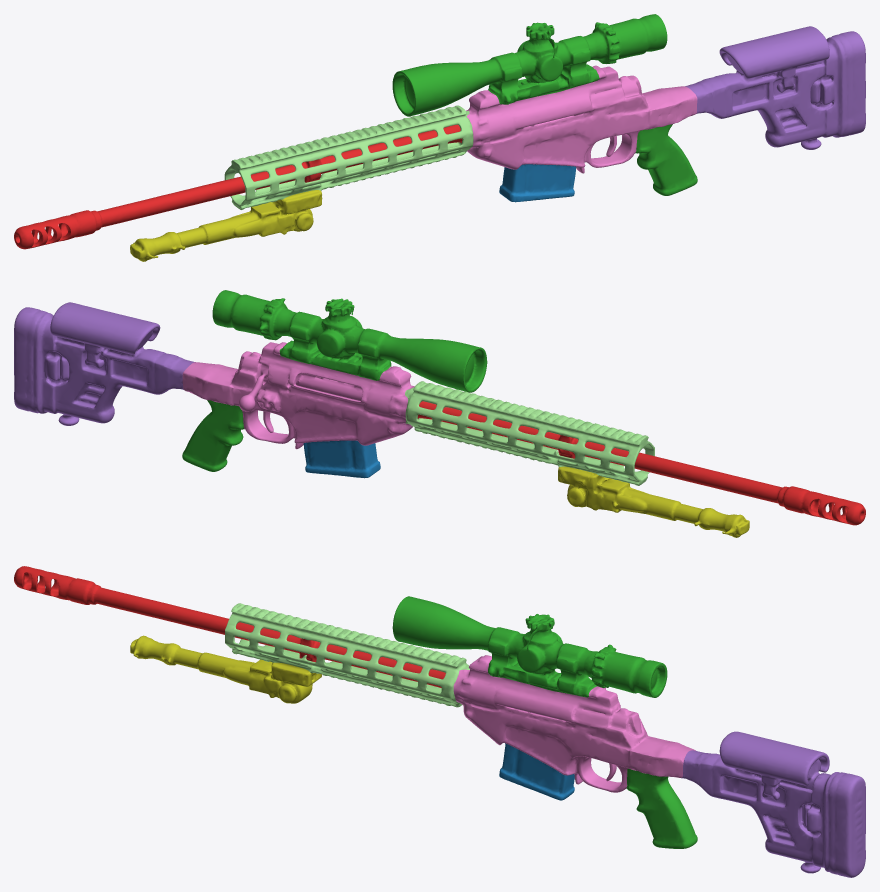
The model's file is desert-sentinel.glb.
The picture shows the model from 3 angles, top to bottom: view 1: azimuth 30°, elevation 25°; view 2: azimuth 150°, elevation 25°; view 3: azimuth 330°, elevation 25°; orthographic projection.
Parts seen in each view (by area): view 1: model_part6, model_part7, model_part3, model_part2, model_part0, model_part1, model_part5, model_part4; view 2: model_part6, model_part7, model_part3, model_part2, model_part0, model_part1, model_part5, model_part4; view 3: model_part6, model_part7, model_part3, model_part2, model_part0, model_part1, model_part5, model_part4.
Boxes of the visible parts, <box> form: model_part6: <box>685,26,865,149</box>; model_part7: <box>466,65,697,173</box>; model_part3: <box>392,14,667,116</box>; model_part2: <box>224,105,473,209</box>; model_part0: <box>14,124,462,249</box>; model_part1: <box>130,190,322,261</box>; model_part5: <box>635,124,697,195</box>; model_part4: <box>499,164,576,202</box>; model_part6: <box>14,302,194,425</box>; model_part7: <box>182,342,414,449</box>; model_part3: <box>212,290,487,392</box>; model_part2: <box>405,381,654,485</box>; model_part0: <box>417,401,865,525</box>; model_part1: <box>558,466,749,537</box>; model_part5: <box>182,400,244,471</box>; model_part4: <box>303,440,380,478</box>; model_part6: <box>681,731,865,877</box>; model_part7: <box>453,655,695,792</box>; model_part3: <box>392,596,667,697</box>; model_part2: <box>225,603,469,707</box>; model_part0: <box>14,566,445,687</box>; model_part1: <box>130,635,321,703</box>; model_part5: <box>626,768,697,848</box>; model_part4: <box>499,743,574,800</box>.
Size of the model in its own units: 1.05 by 0.2325 by 0.0769.
